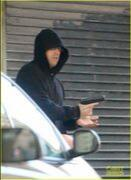gun: (78, 94, 110, 118)
